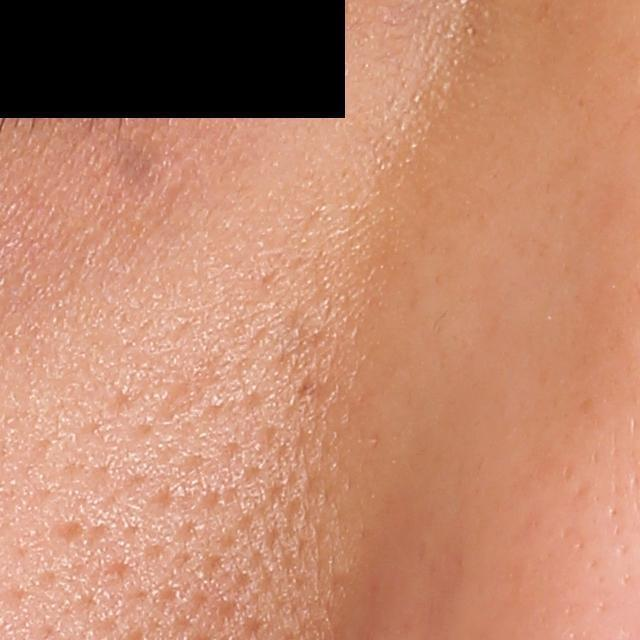atrophic_scar: (49, 513, 90, 544)
